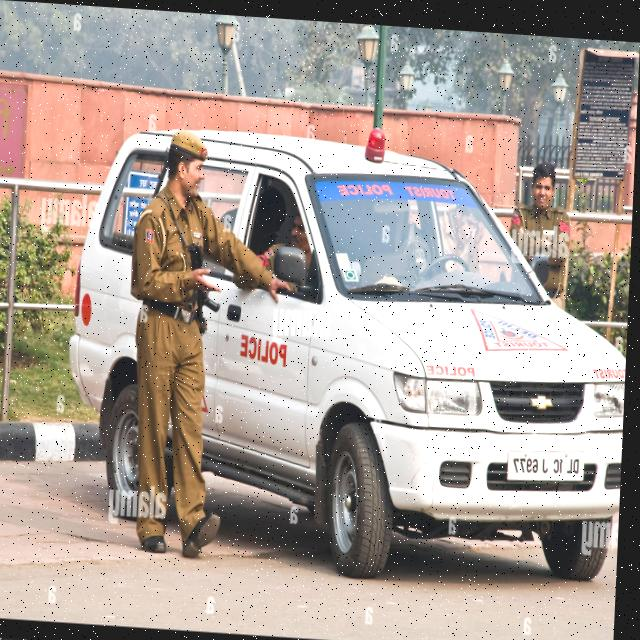plate: (503, 434, 595, 486)
